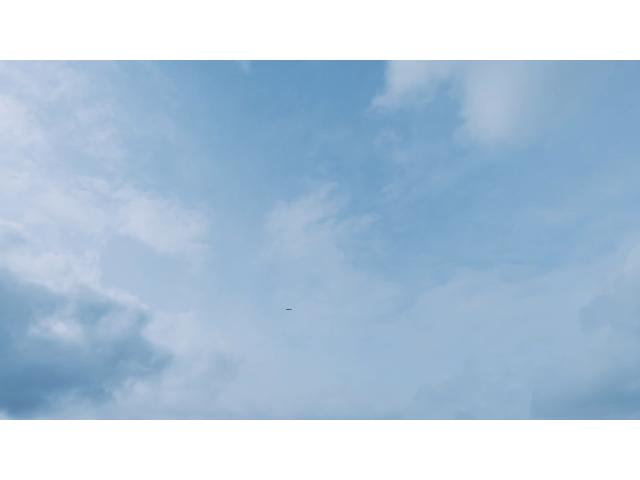Anti-Drone: (282, 306, 298, 312)
